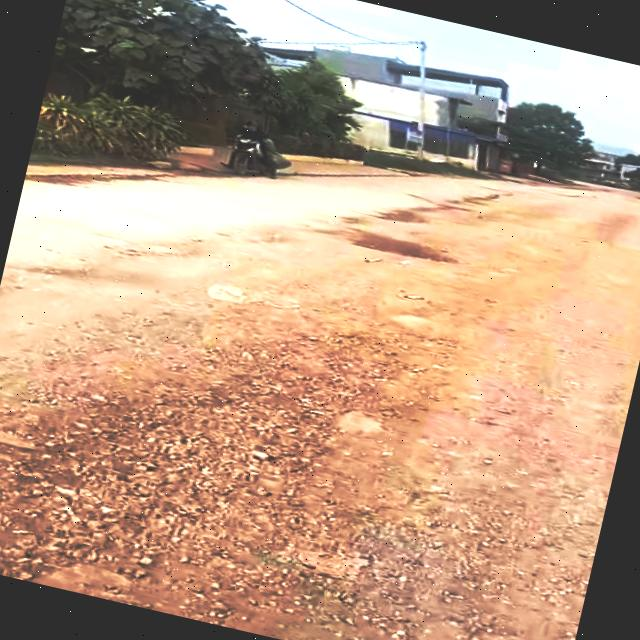pothole: (344, 222, 464, 272)
